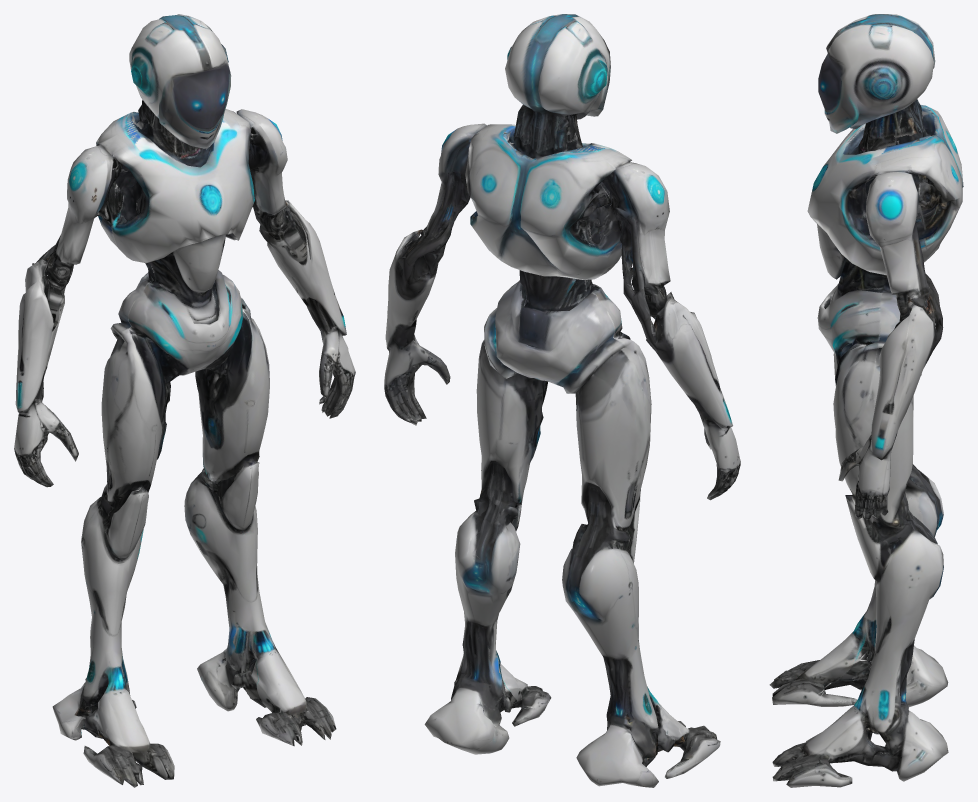
The model's file is ModelBlender_robot_futurista.glb.
The picture shows the model from 3 angles, left to right: view 1: azimuth 30°, elevation 25°; view 2: azimuth 150°, elevation 25°; view 3: azimuth 270°, elevation 25°; orthographic projection. The views are drawn at different scales.
Bounding box in the file's own units: 0.9969 × 2 × 0.4915.
Materials: 1 (1 with a texture image).
